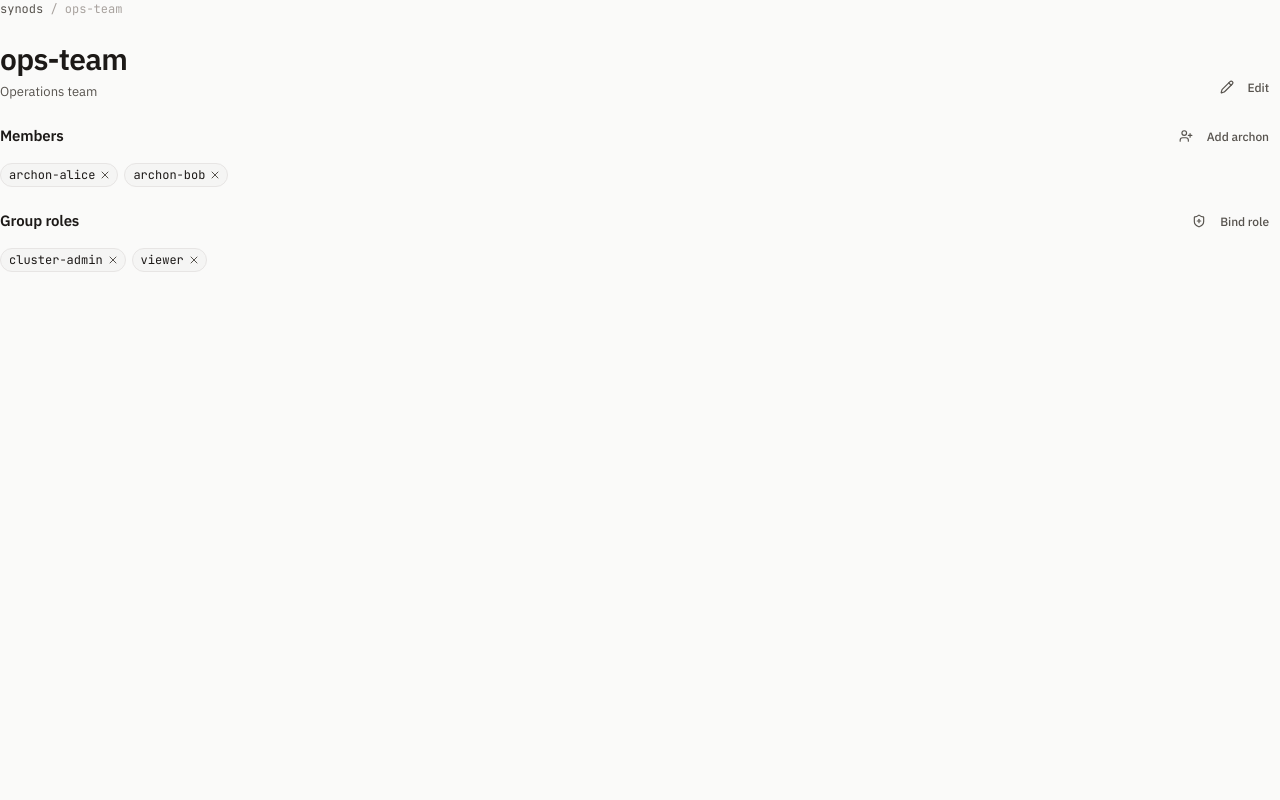
SynodDetail › [EDIT] edit-synod-btn opens EditSynodModal with name and description
Expected: the heading "ops-team" is shown, [0, 44, 127, 74]
Click the button with test id "edit-synod-btn" at point(1244, 87), box [1209, 72, 1279, 102]
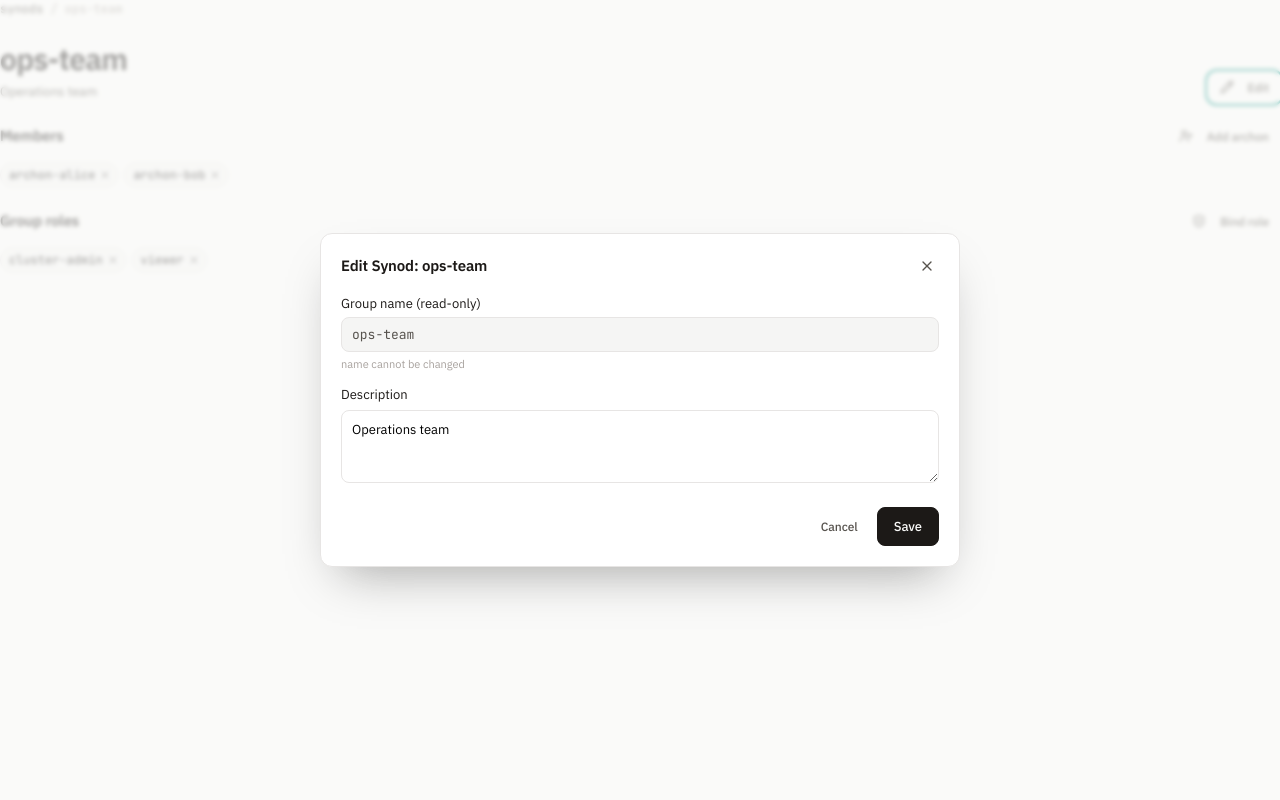
Expected: the field with test id "edit-synod-name-readonly" holds "ops-team", [341, 317, 939, 352]
Expected: the text box with test id "edit-synod-description-input" holds "Operations team", [341, 410, 939, 483]
